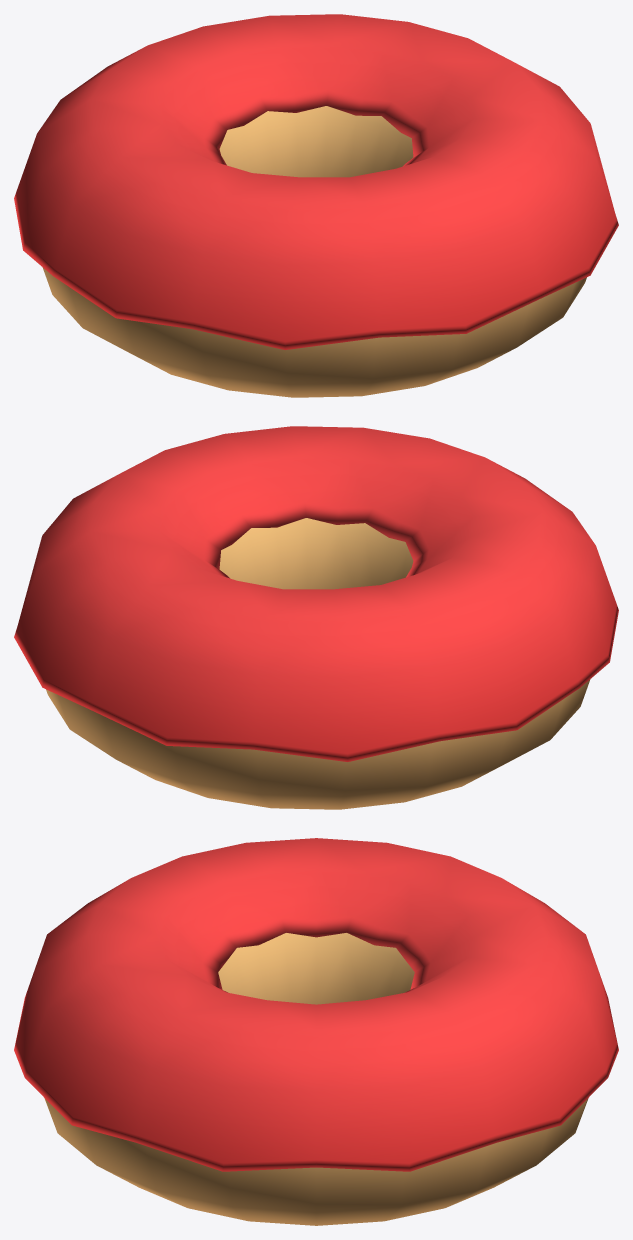
The model's file is donut_red.fbx.
The picture shows the model from 3 angles, top to bottom: view 1: azimuth 30°, elevation 25°; view 2: azimuth 150°, elevation 25°; view 3: azimuth 270°, elevation 25°; orthographic projection.
Parts seen in each view (by area): view 1: donut_red; view 2: donut_red; view 3: donut_red.
Boxes of the visible parts, x1,y1,x2,y2 form: donut_red: (14, 14, 618, 397); donut_red: (14, 426, 618, 809); donut_red: (14, 838, 618, 1225).
Bounding box in the file's own units: 93.8 × 33.51 × 92.52.
